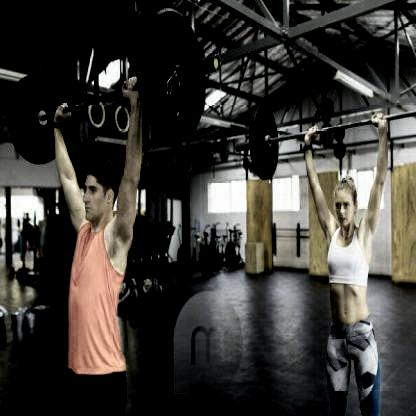Barbell: (206, 46, 225, 73)
